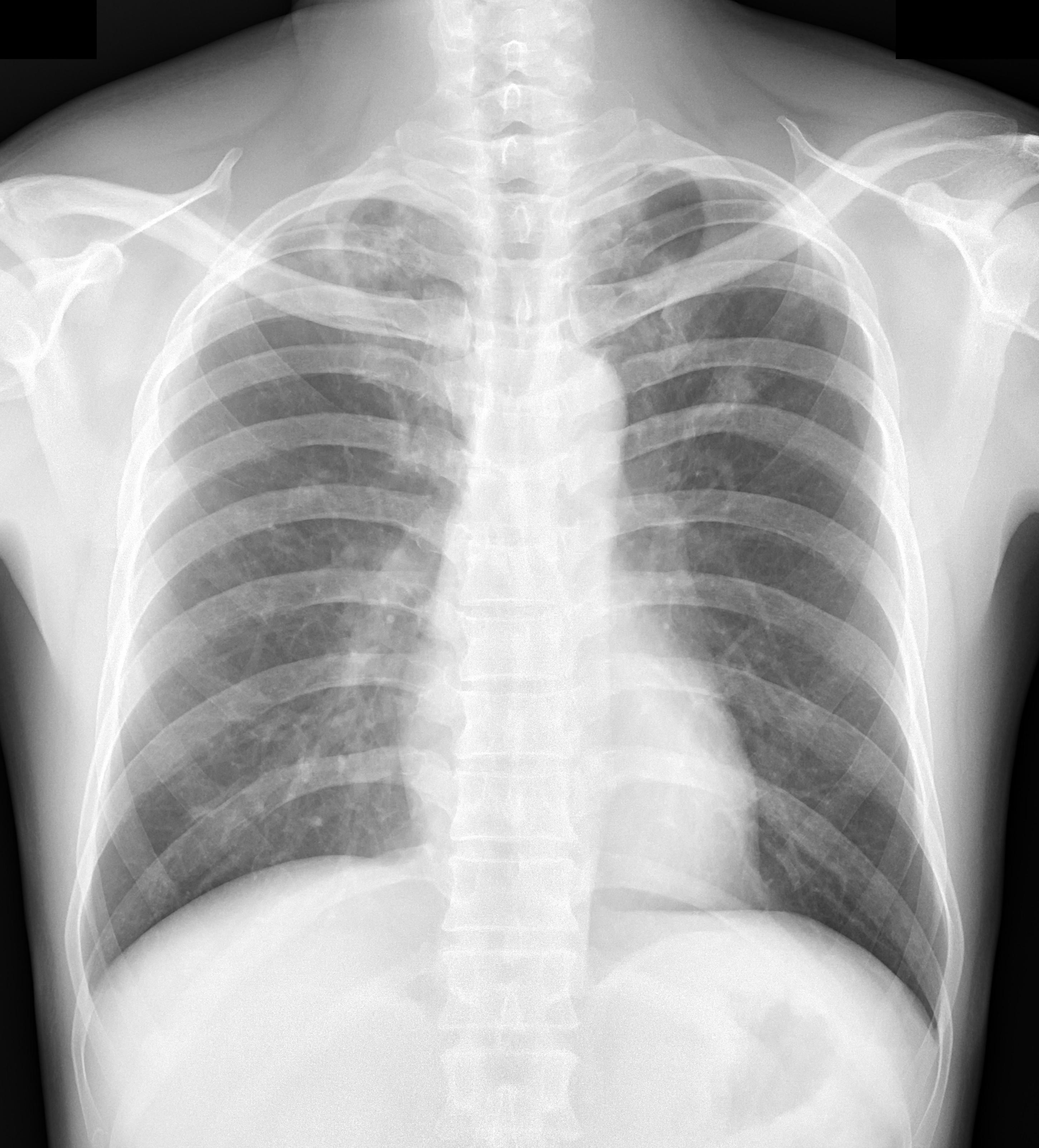Pleural thickening: (275, 192, 410, 225), (637, 160, 672, 174)
Pulmonary fibrosis: (257, 183, 477, 308)
